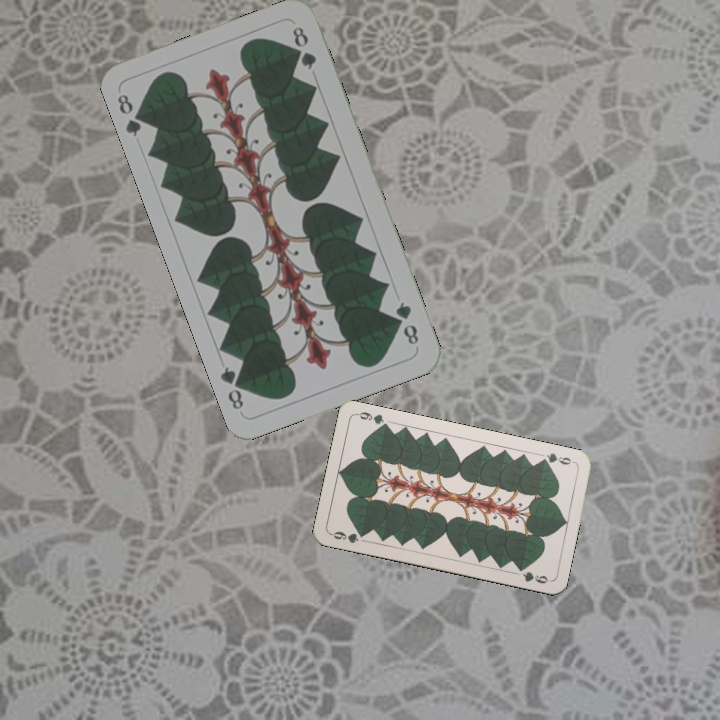G8: (113, 90, 150, 140), (391, 297, 422, 348)
G9: (327, 527, 368, 546), (536, 449, 577, 467)
